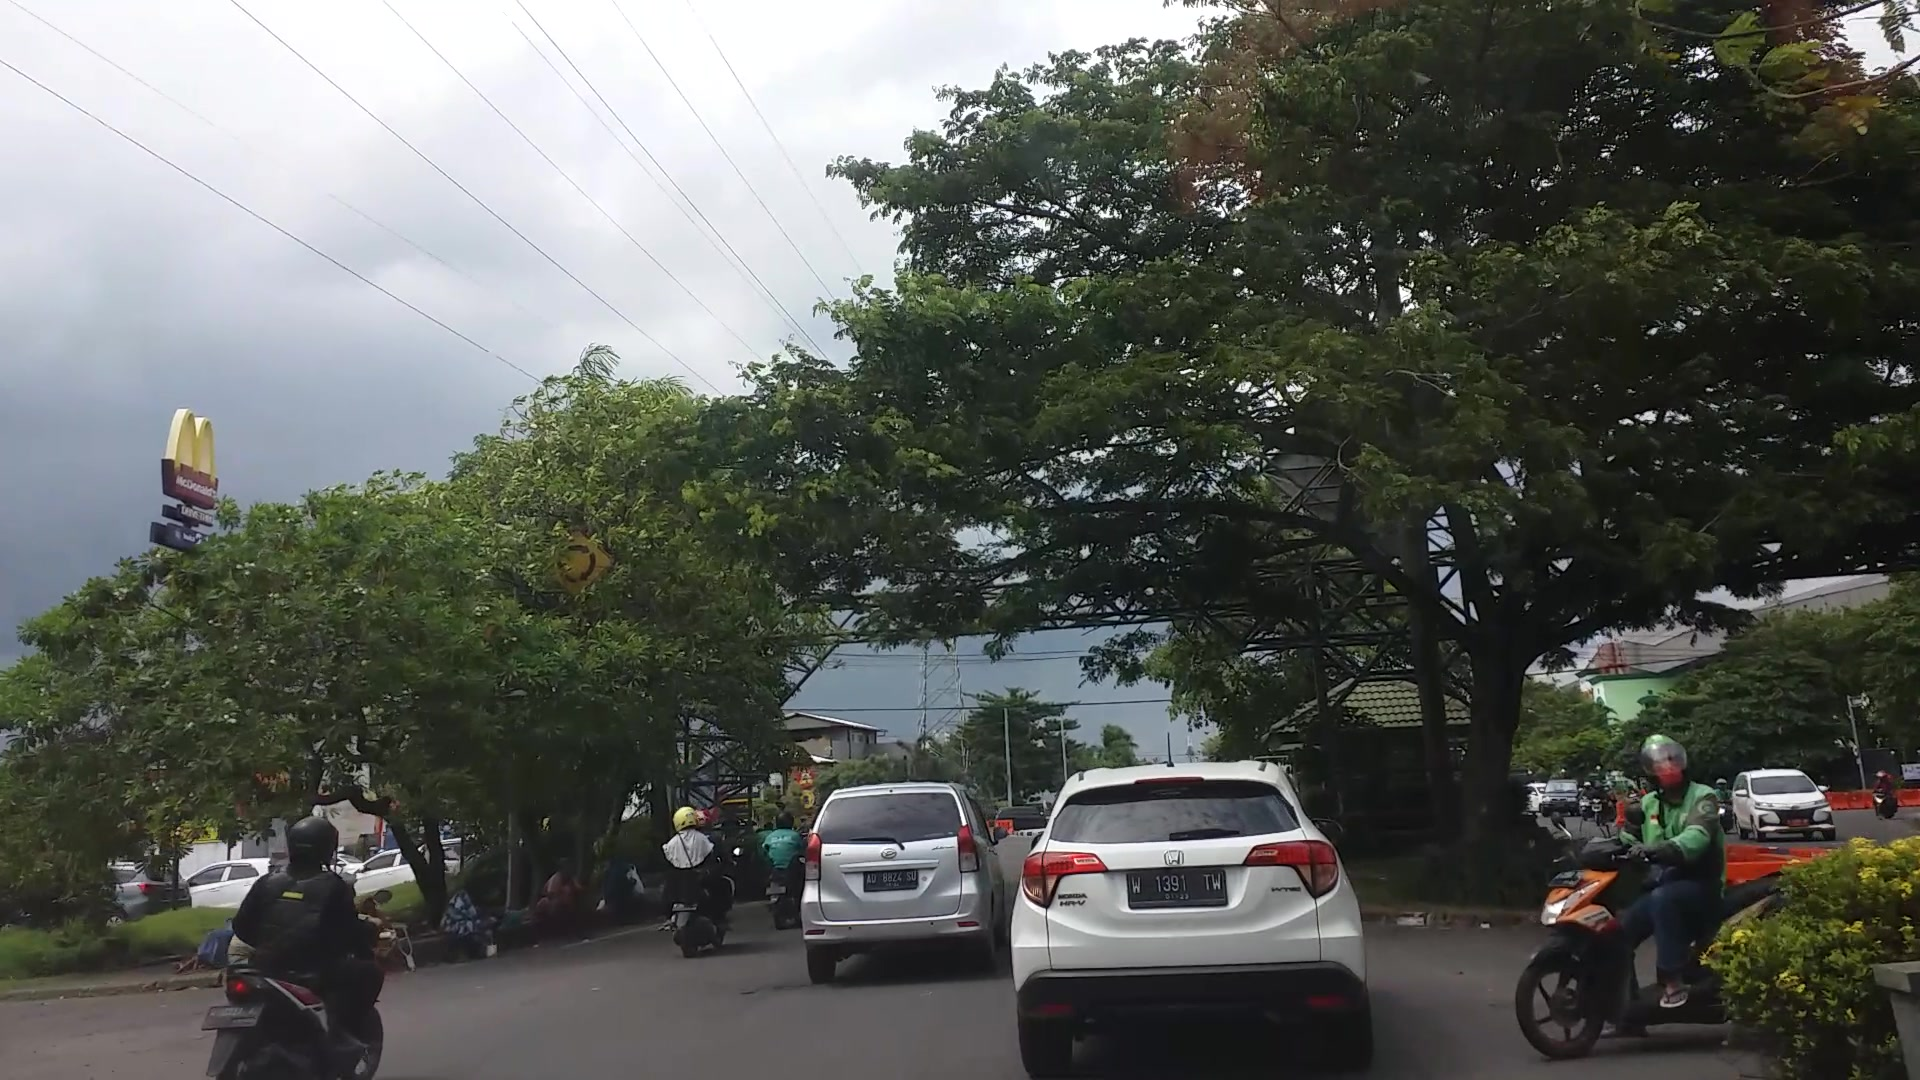plate_positive: (1126, 869, 1226, 907)
